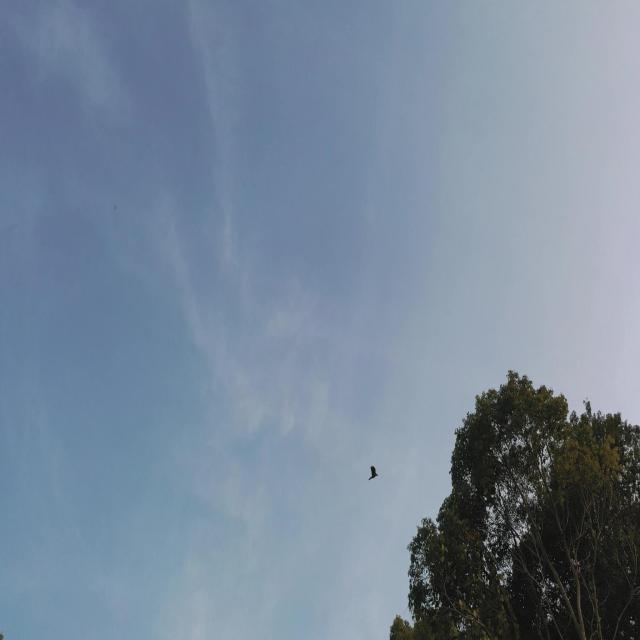Birds: (356, 452, 388, 494)
